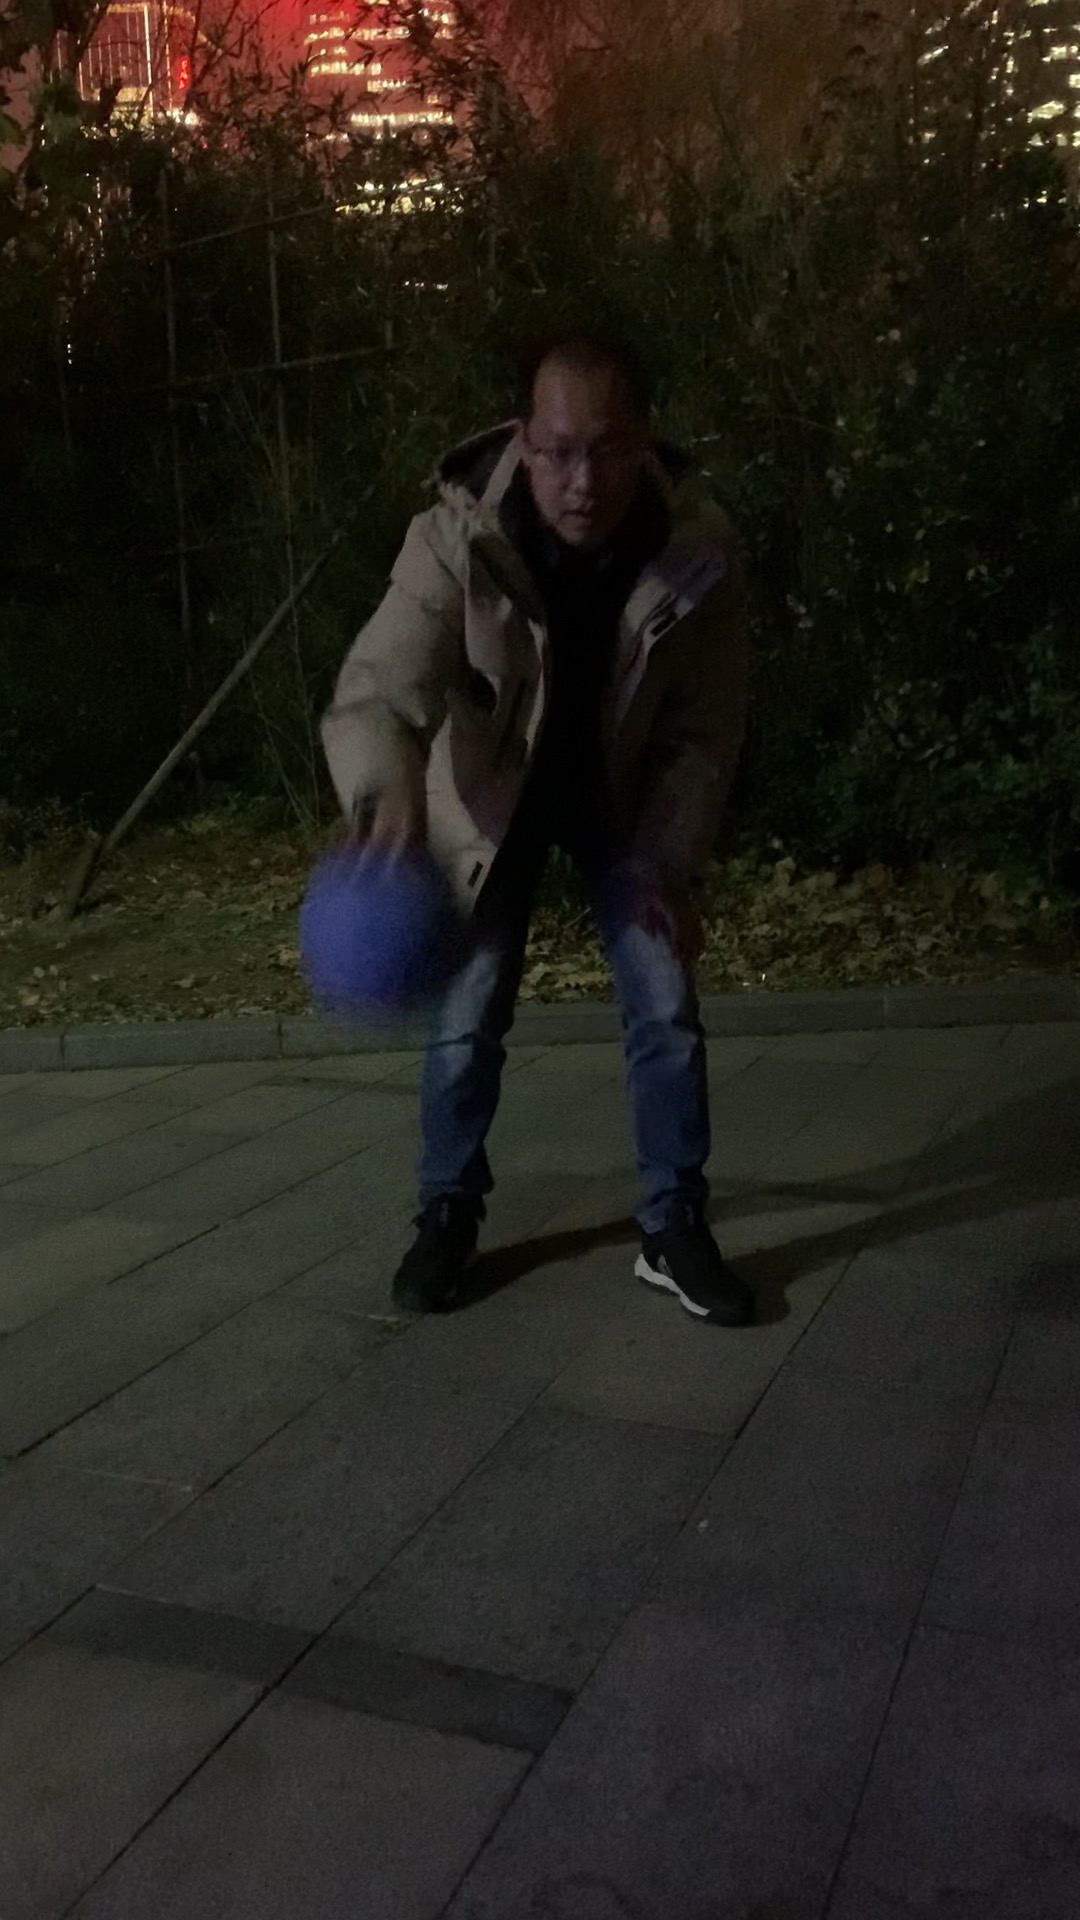ball: (303, 853, 471, 1023)
